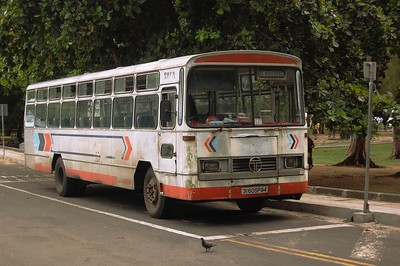bus: (24, 49, 309, 219)
